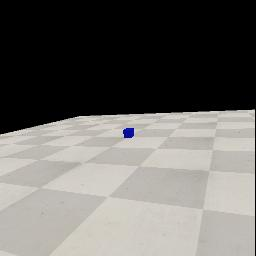box: (123, 128, 134, 138)
